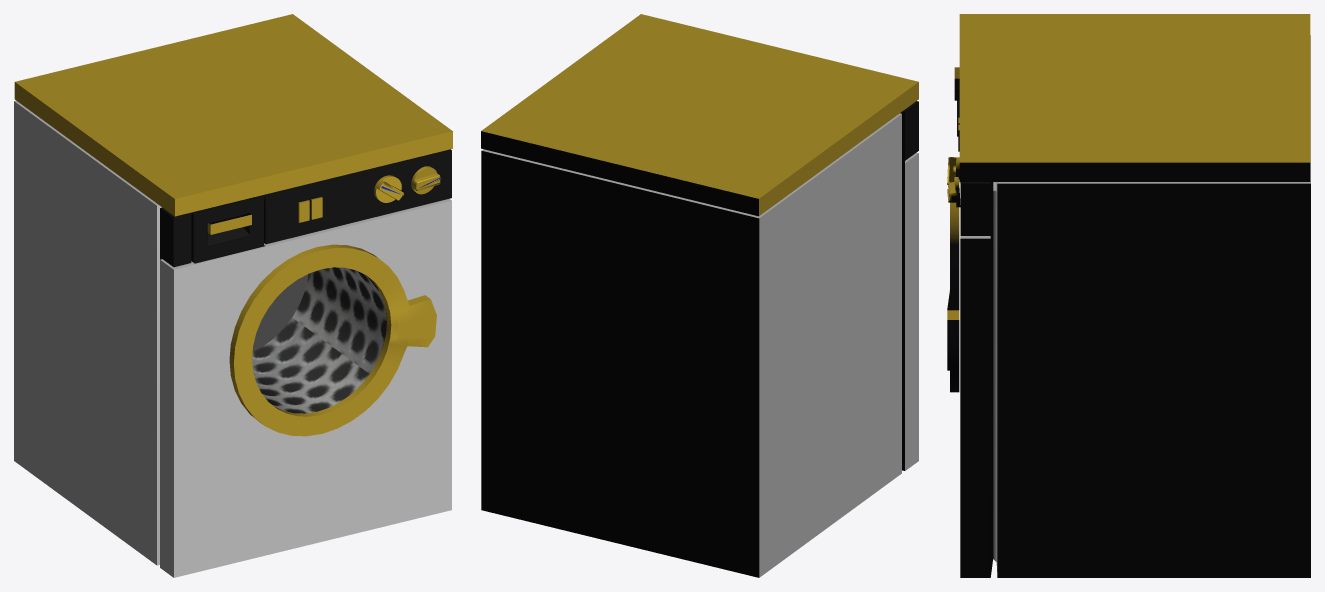
3 renders of one model, left to right at view 1: azimuth 30°, elevation 25°; view 2: azimuth 150°, elevation 25°; view 3: azimuth 270°, elevation 25°, orthographic. The views are drawn at different scales.
Parts seen in each view (by area): view 1: knoppen; view 2: knoppen; view 3: knoppen.
Boxes of the visible parts, box(x1,y1,x2,y2) form: knoppen: box(14, 14, 452, 577); knoppen: box(481, 14, 918, 577); knoppen: box(947, 14, 1310, 577).
Size of the model in its own units: 64.61 by 84.03 by 66.66.
Materials: 1 (1 with a texture image).
